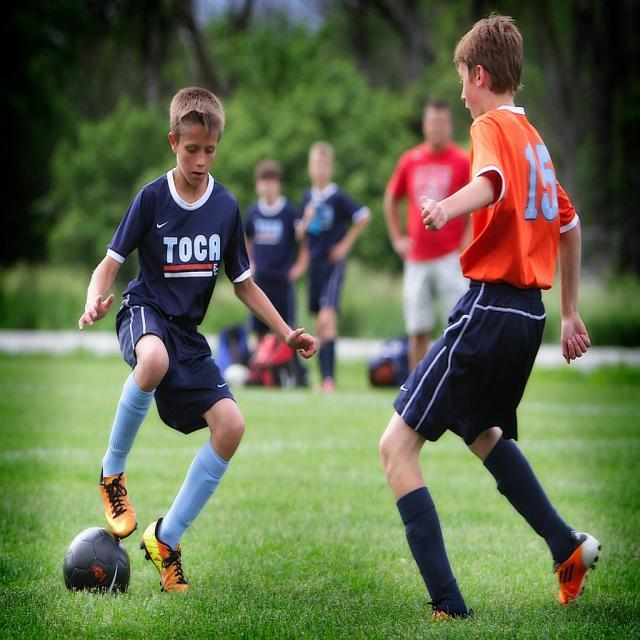football: (59, 525, 135, 605)
